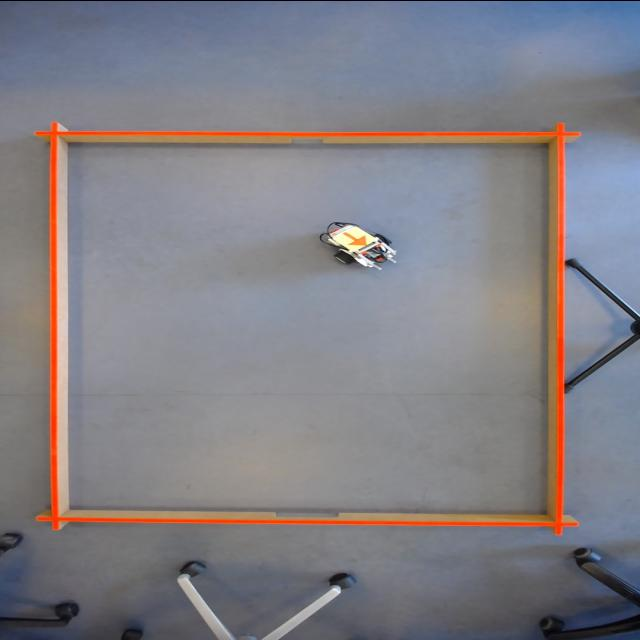robot: (330, 223, 378, 252)
